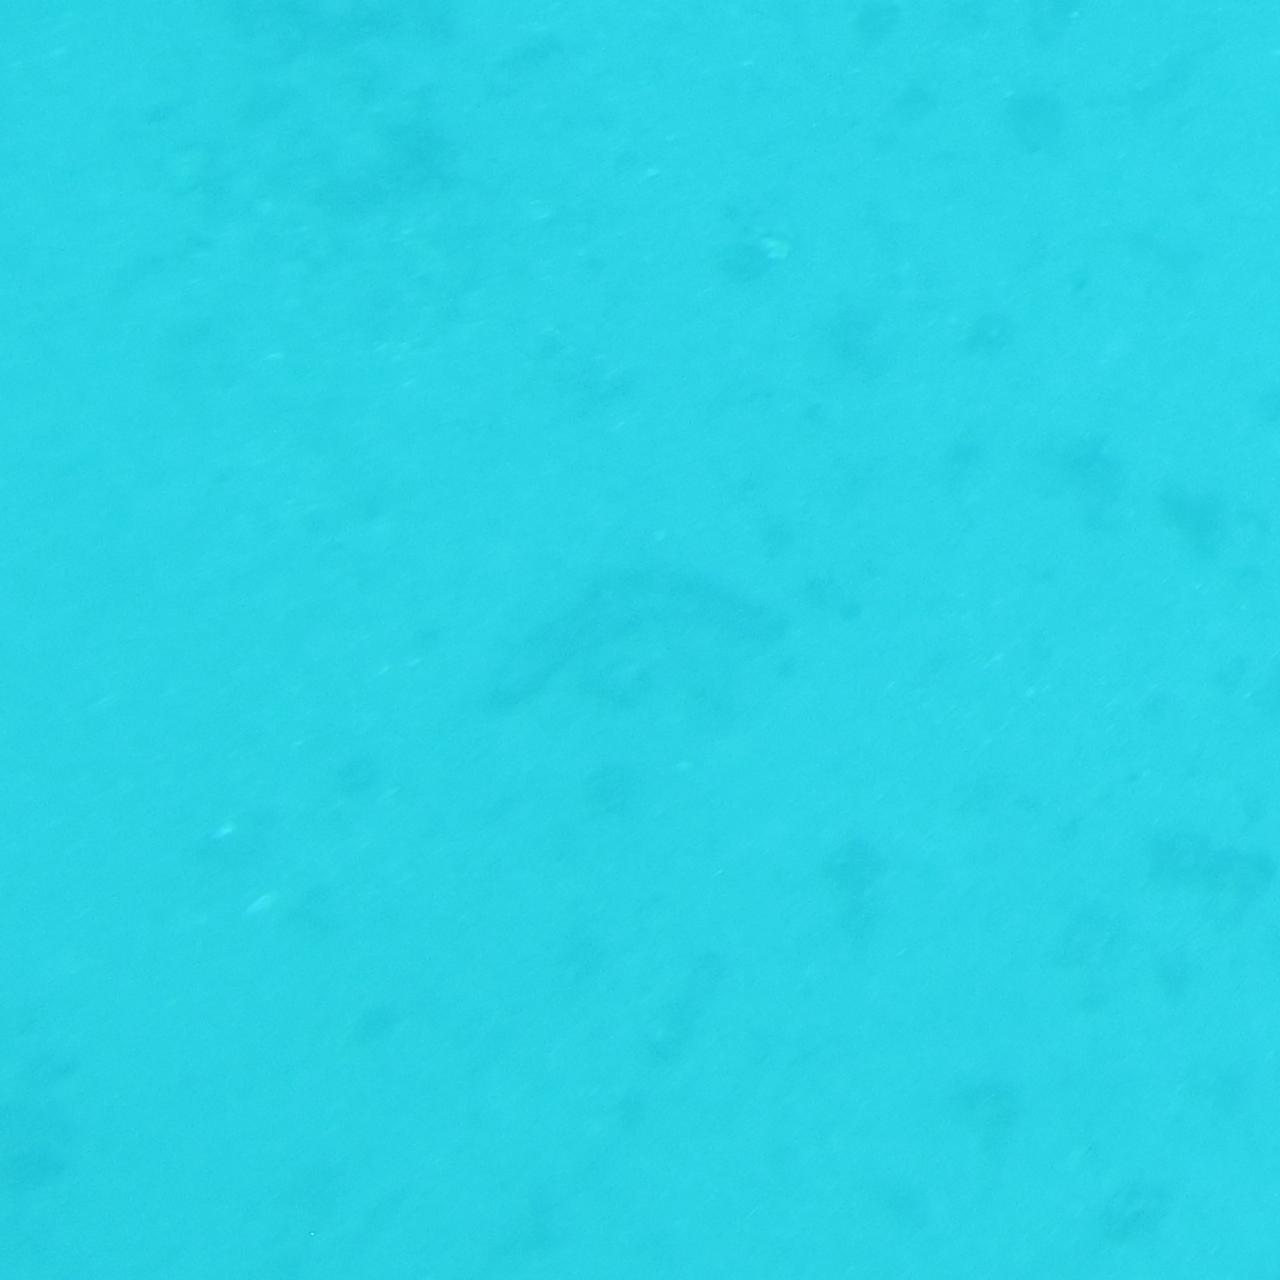Holothuria tubulosa: (482, 554, 798, 726)
